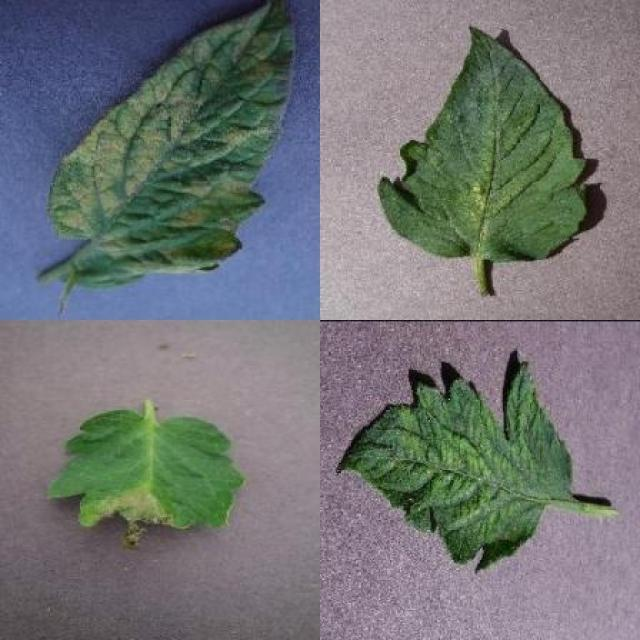Late Blight: (45, 408, 248, 553)
Leaf Mold: (48, 0, 295, 286)
Mosaic Virus: (336, 360, 574, 570)
Spider Mites: (379, 24, 587, 262)
